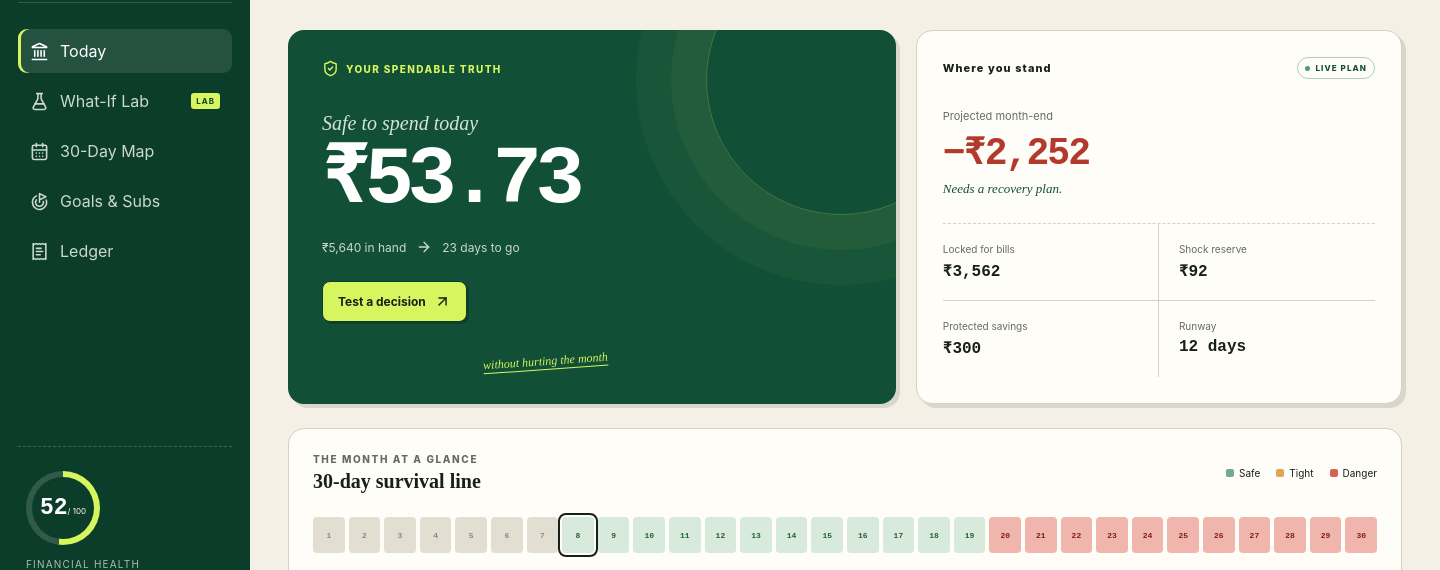
Test: MoneyApp interactions › navigates to the what-if lab without a page reload
Expected: the text "Safe to spend today" is shown, [322,112,478,134]
Click the button "Test a decision" at (394, 302), box [322,281,467,322]
(page scrolled)
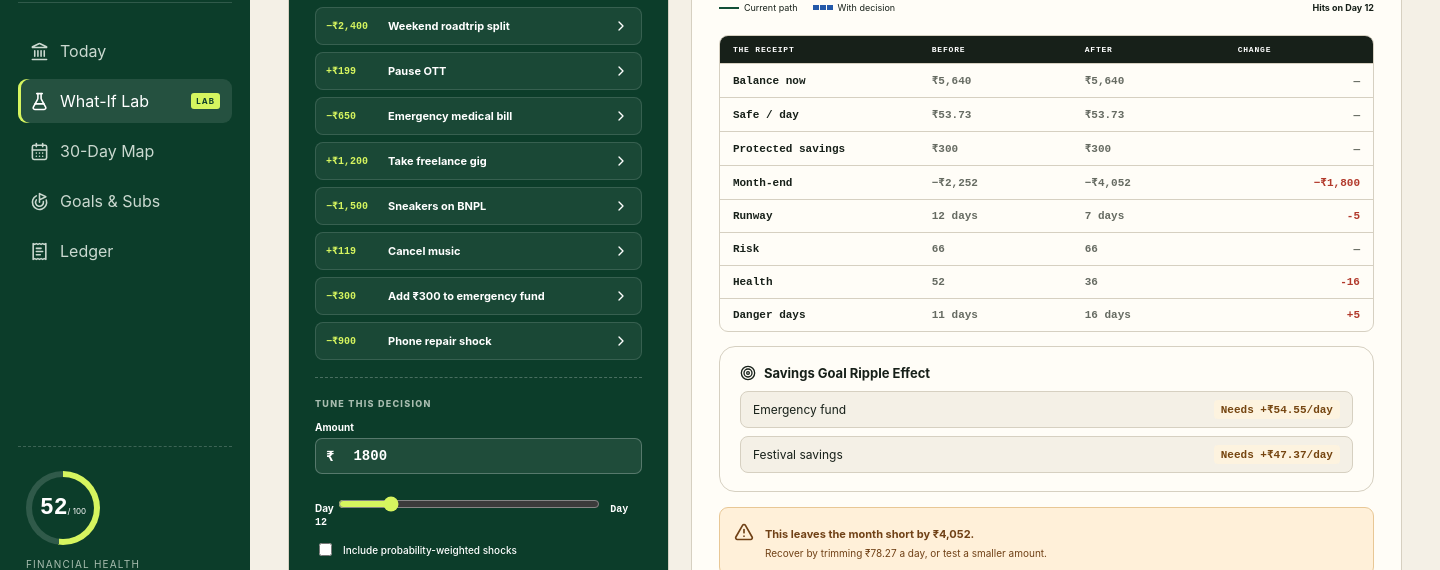
Result: the element named "Decision consequence comparison" is shown at [719,35,1374,332]
Result: the text "Savings Goal Ripple Effect" is shown at [764,365,930,381]
